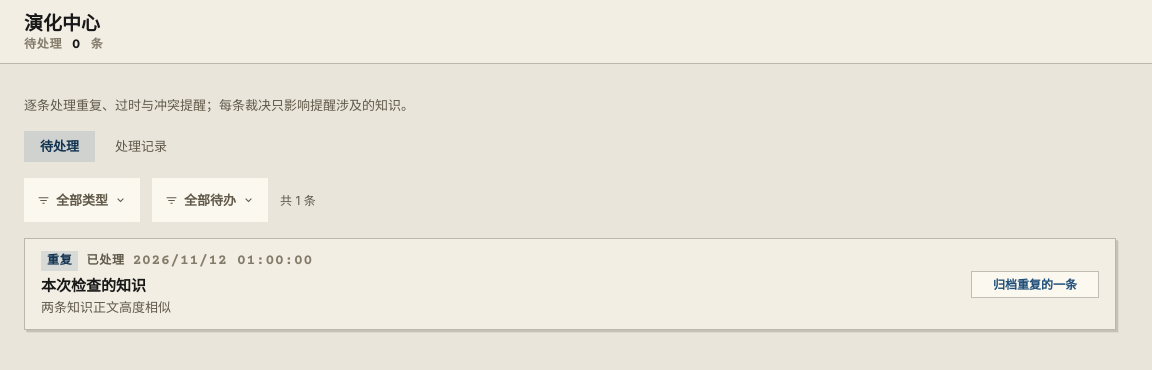
it: EvolutionCenter › 处理记录展示裁决动作、备注与时间
Click the tab "处理记录" at (141, 146), box [99, 131, 183, 162]
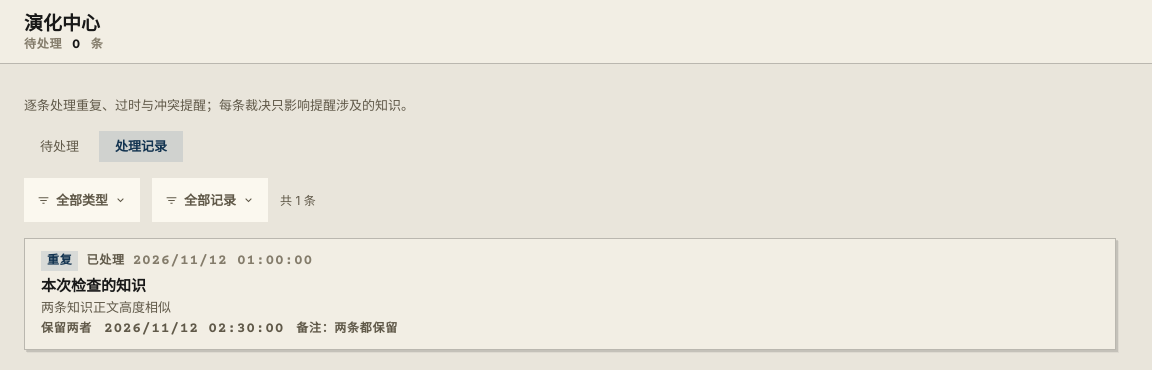
expect the list item with test id "alert-card" shows "2026": met, box [133, 253, 313, 269]
expect the list item with test id "alert-card" shows "保留两者": met, box [41, 321, 92, 337]
expect the list item with test id "alert-card" shows "两条都保留": met, box [296, 321, 398, 337]
